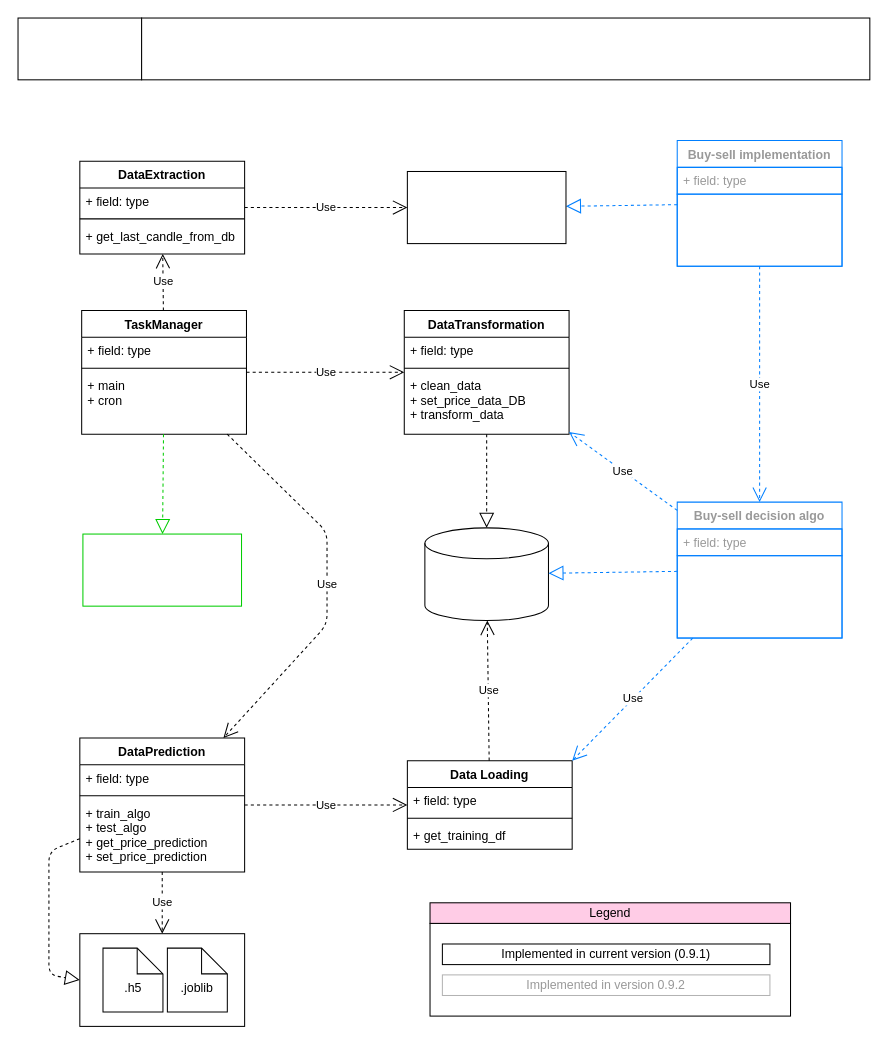
This 888x1044 diagram has some shape labels left out. The centre of each missing label's shape, as x and y in pixels:
+ parse_pred_price_data + trigger_buy_sell_signals + set_buy_sell_data_DB: pixel 759 596
+ set_buy_order + set_sell_order + set_stop_loss_order + take_profit_order: pixel 759 229
Grafana: pixel 162 569
HAL v0.9.1: pixel 79 48
Influx DB API: pixel 486 574
Oanda API: pixel 486 207
Use cases: pixel 505 48
